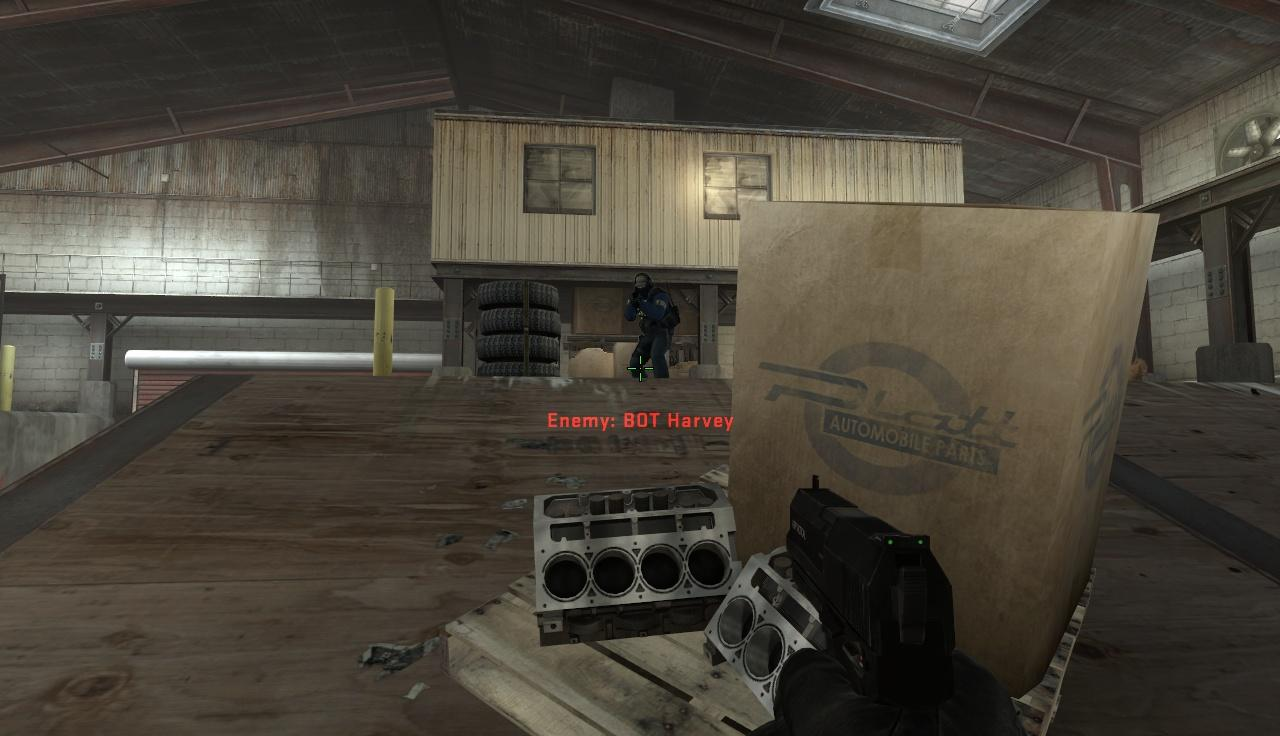ct: (627, 272, 675, 378)
cthead: (634, 273, 653, 296)
pistol: (772, 476, 1027, 736)
